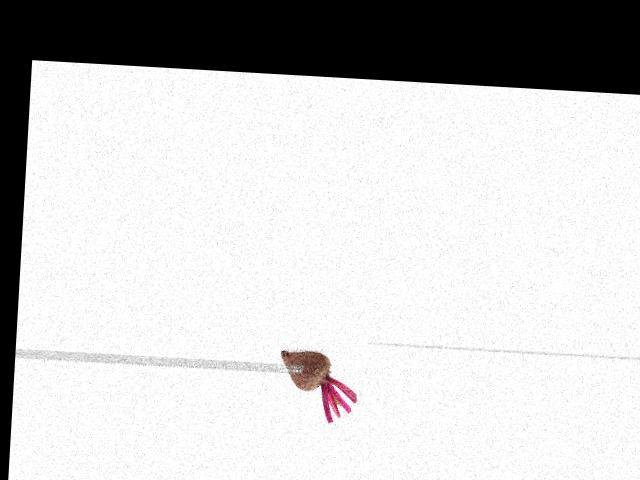beet: (276, 349, 359, 424)
